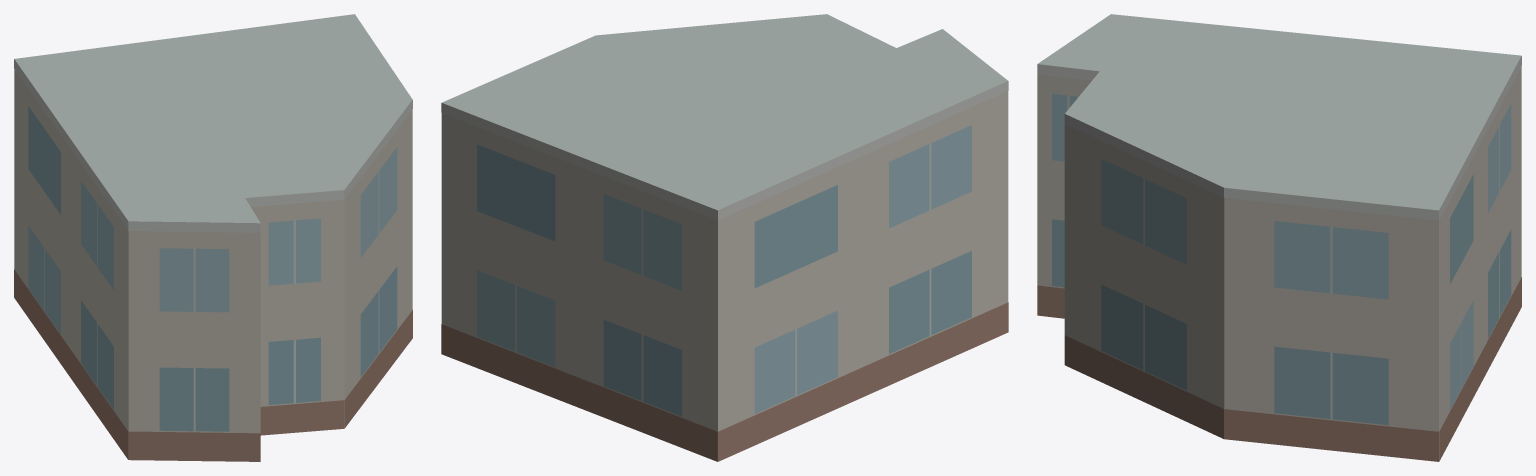
Rendered from survey-upis-32763295.glb.
3 views of the same model, side by side, from view 1: azimuth 30°, elevation 25°; view 2: azimuth 150°, elevation 25°; view 3: azimuth 270°, elevation 25° (orthographic). The views are drawn at different scales.
Parts seen in each view (by area): view 1: survey-upis-32763295.tmp; view 2: survey-upis-32763295.tmp; view 3: survey-upis-32763295.tmp.
Boxes of the visible parts, <box> form: survey-upis-32763295.tmp: <box>14,14,412,461</box>; survey-upis-32763295.tmp: <box>441,14,1008,461</box>; survey-upis-32763295.tmp: <box>1037,14,1521,461</box>.
Size of the model in its own units: 10.23 by 6.1 by 10.66.
